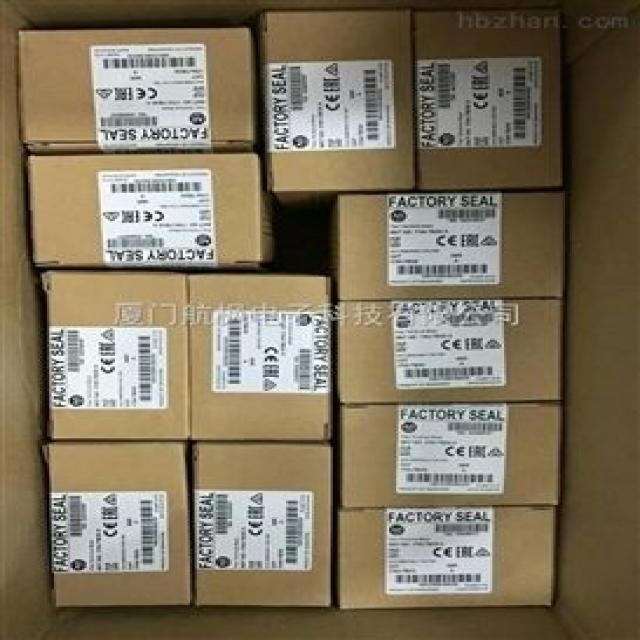Carton: (47, 442, 326, 607), (258, 11, 417, 189), (28, 151, 260, 267), (19, 30, 251, 144), (417, 14, 560, 184), (335, 400, 558, 507), (338, 191, 556, 300), (42, 274, 183, 437), (338, 300, 556, 402), (188, 274, 326, 435), (338, 507, 549, 610)
